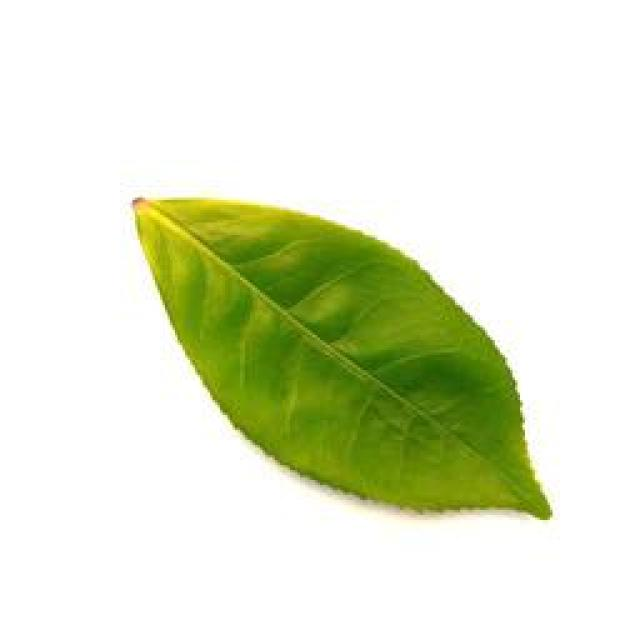Healthy: (116, 178, 560, 528)
